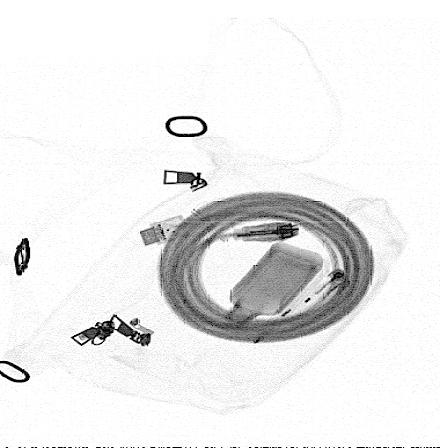Lighter: (275, 267, 352, 323)
